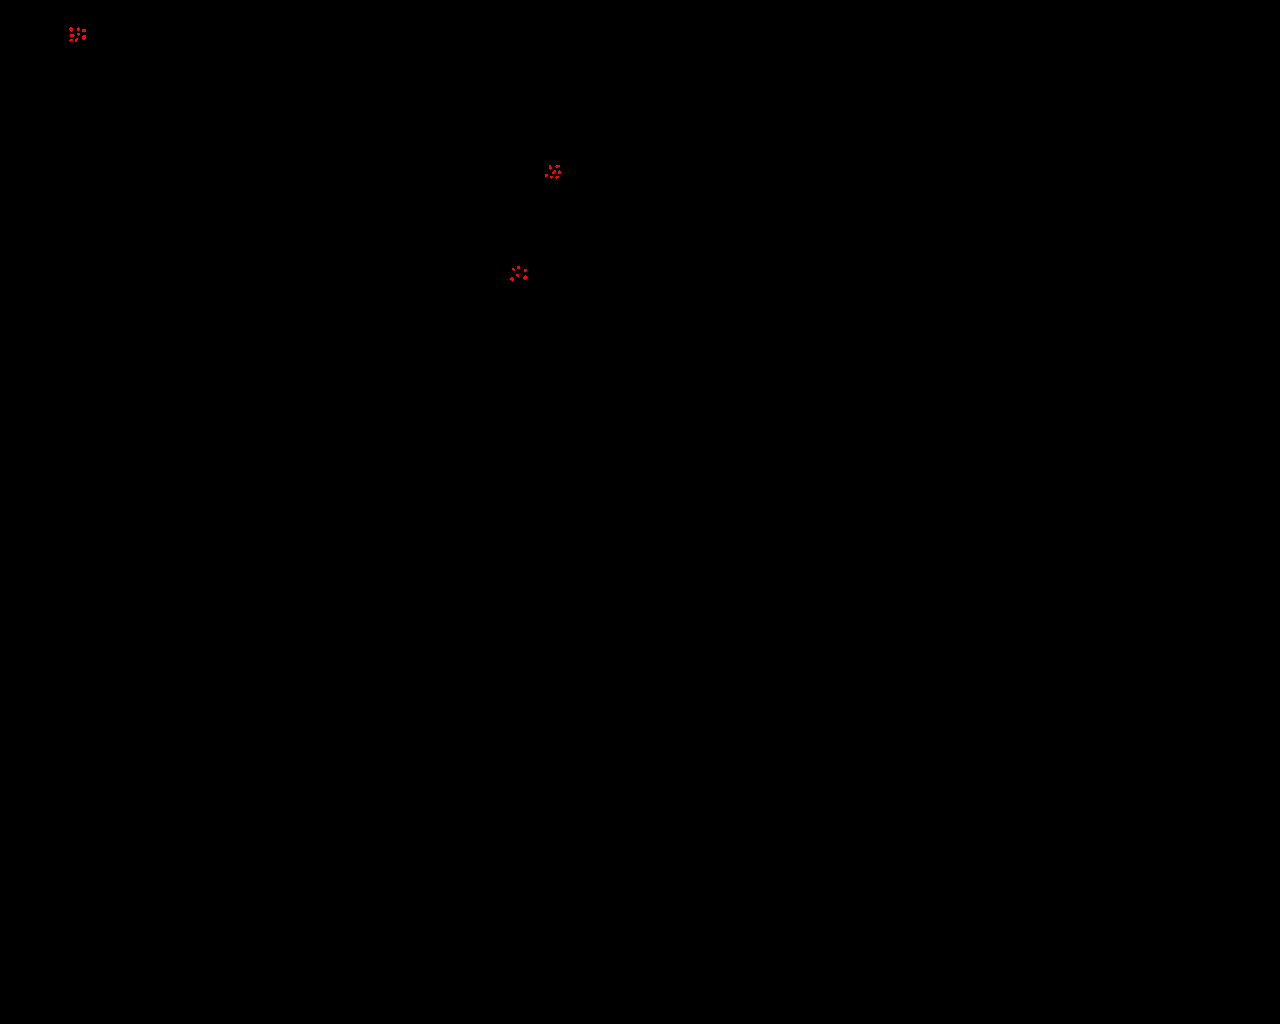Target: (69, 27, 73, 32), (82, 34, 86, 40), (523, 275, 528, 280), (510, 277, 514, 282), (552, 170, 556, 174), (549, 165, 552, 170), (555, 165, 560, 168), (77, 27, 80, 31), (82, 29, 86, 32), (75, 38, 78, 42), (69, 39, 73, 42), (558, 170, 561, 174), (555, 176, 559, 179), (70, 34, 75, 37), (550, 176, 553, 179), (512, 267, 515, 271), (523, 269, 527, 272), (516, 274, 519, 277), (77, 33, 80, 36), (517, 266, 520, 269), (545, 174, 548, 177)
